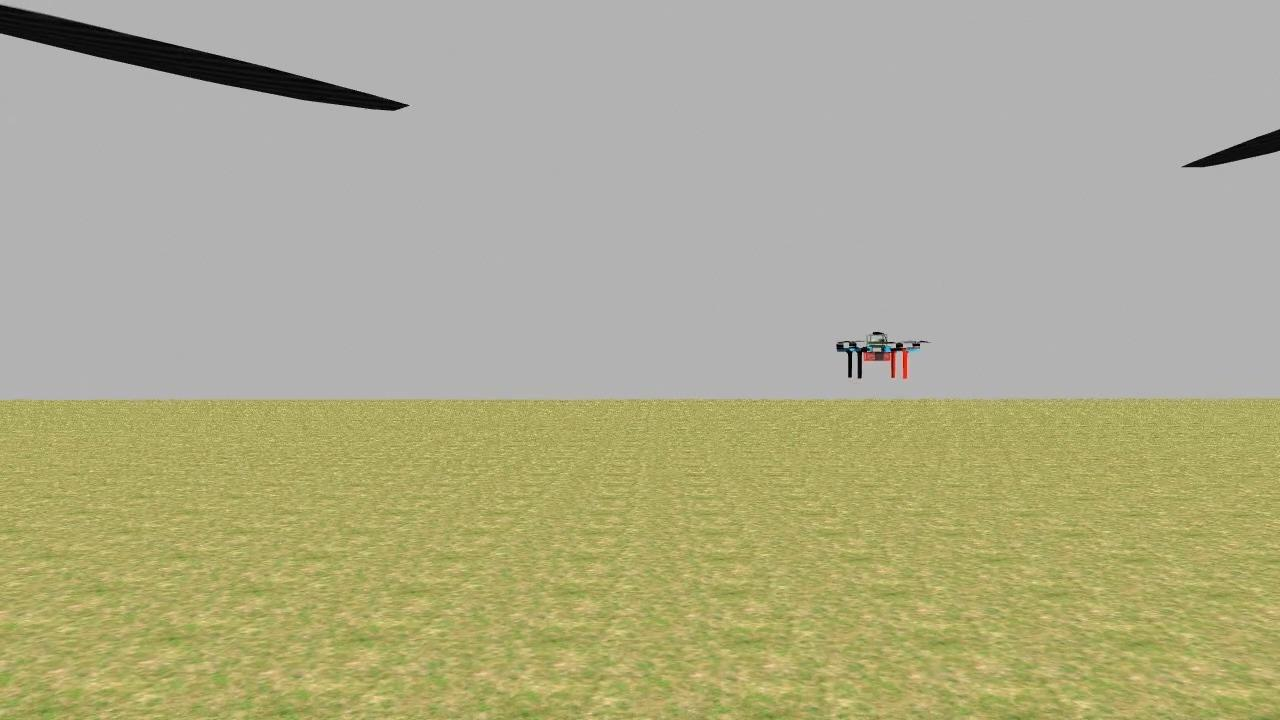UAV: (826, 321, 932, 390)
